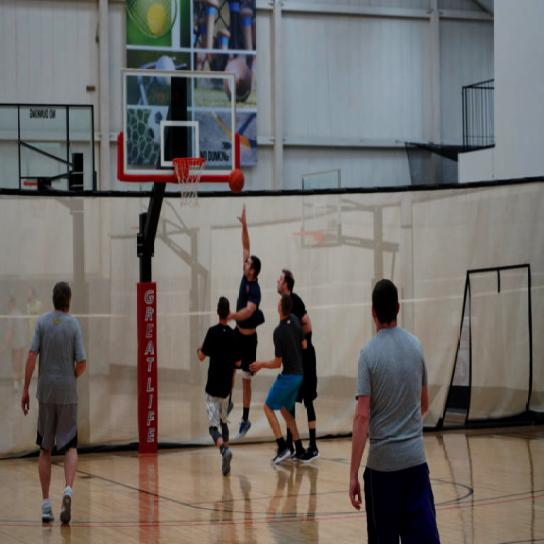basketball-hoop: (172, 155, 209, 211)
